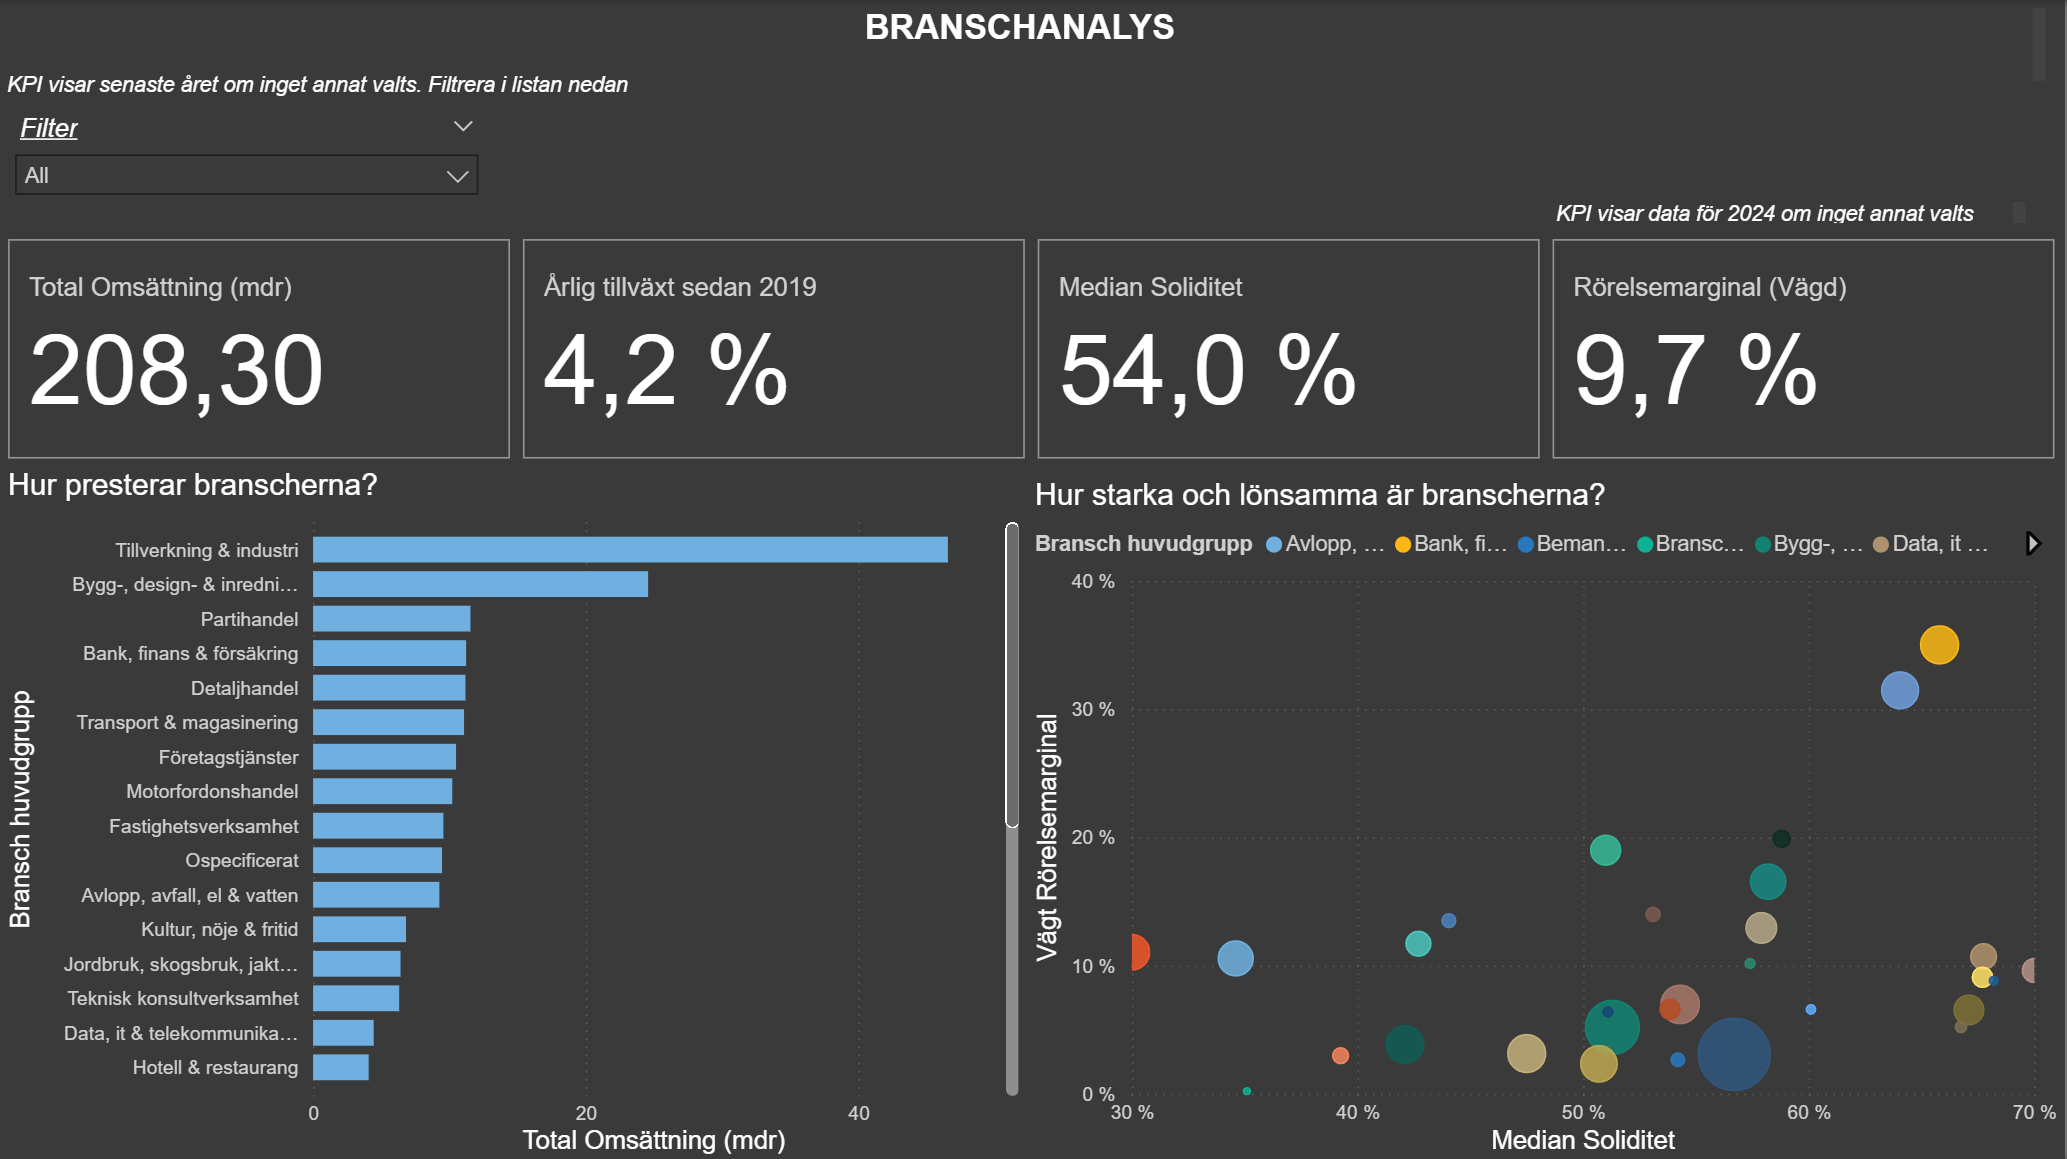

The dashboard page shown, as its layout file describes it:
{"tool":"powerbi","page":{"name":"Bransch","canvas":[1280,720],"ordinal":1},"visuals":[{"type":"textbox","box":[0,0,1273.3,65.7],"z":0},{"type":"slicer","fields":{"Values":["dimYear.YearText","Financials.Bransch huvudgrupp","Financials.Kommunsäte"]},"box":[0,65.7,306.7,77.5],"z":1000},{"type":"cardVisual","fields":{"Data":["Financials.Total Omsättning (mdr)","Financials.Omsättning CAGR fr. 2019 (%)","Financials.Median Soliditet","Financials.Vägt Rörelsemarginal"]},"box":[0.6,143.1,1279.5,146.9],"z":2000},{"type":"barChart","title":"Hur presterar branscherna?","fields":{"Category":["Financials.Bransch huvudgrupp"],"Y":["Financials.Total Omsättning (mdr)"]},"box":[0.6,290,636.4,430],"z":3000},{"type":"scatterChart","title":"Hur starka och lönsamma är branscherna?","fields":{"X":["Financials.Median Soliditet"],"Y":["Financials.Vägt Rörelsemarginal"],"Size":["Financials.Total Omsättning (mdr)"],"Series":["Financials.Bransch huvudgrupp"]},"box":[637,296.2,643.2,423.8],"z":4000},{"type":"textbox","box":[959.8,120.2,300.5,22.9],"z":5000}]}

Visuals, with their boxes in screenshot pixels (x1, y1, x2, y2), scaled from the page's 1280x720 canvas onto the 2067x1159 screenshot:
textbox: 0, 0, 2056, 106
slicer - dimYear.YearText x Financials.Bransch huvudgrupp: 0, 106, 495, 231
cardVisual - Financials.Total Omsättning (mdr) x Financials.Omsättning CAGR fr. 2019 (%): 1, 230, 2066, 467
"Hur presterar branscherna?" barChart: 1, 467, 1029, 1158
"Hur starka och lönsamma är branscherna?" scatterChart: 1029, 477, 2066, 1158
textbox: 1550, 193, 2035, 230
